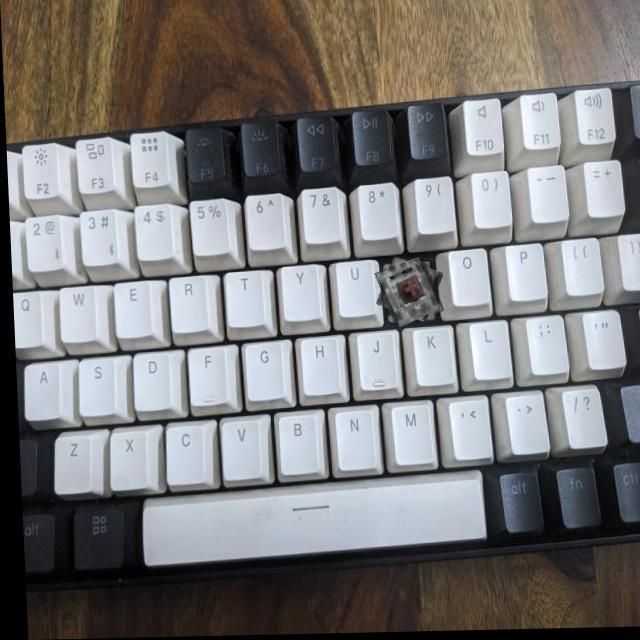key-switch: (375, 260, 437, 327), (376, 260, 438, 321)
